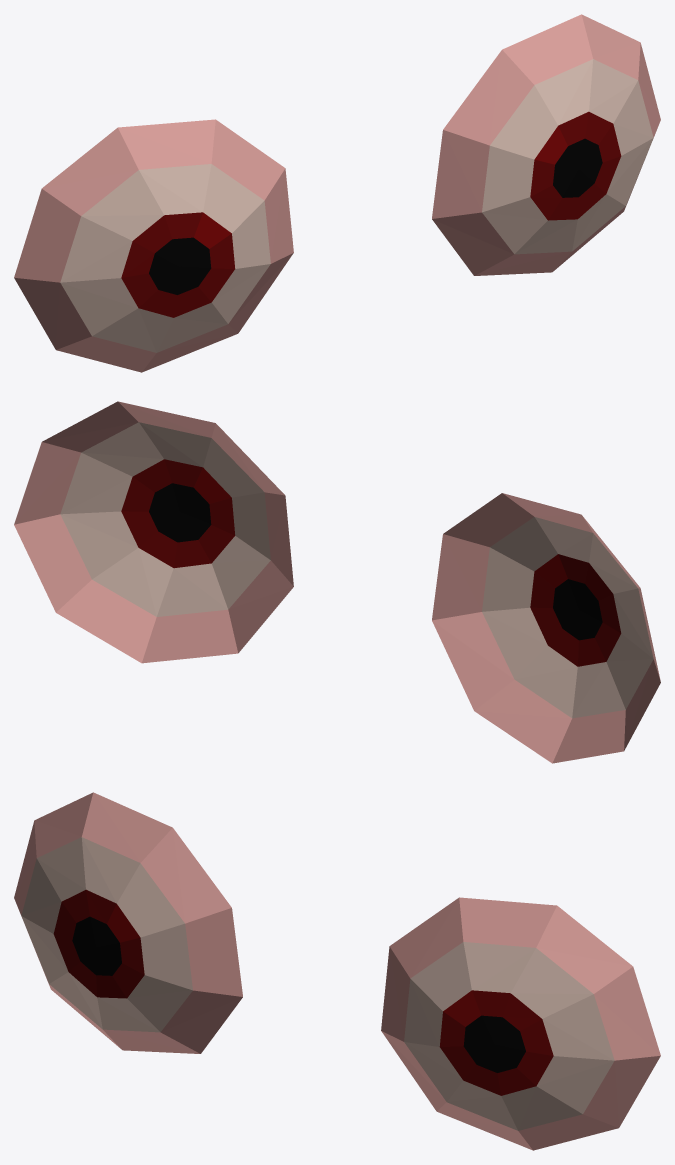
Rendered from eyesRedFemale.glb.
3 renders of one model, top to bottom at view 1: azimuth 30°, elevation 25°; view 2: azimuth 150°, elevation 25°; view 3: azimuth 330°, elevation 25°, orthographic.
Parts seen in each view (by area): view 1: eyesRedFemale; view 2: eyesRedFemale; view 3: eyesRedFemale.
Part boxes in pixels (x1,y1,x2,y2): eyesRedFemale: [14, 14, 660, 372]; eyesRedFemale: [14, 401, 660, 763]; eyesRedFemale: [14, 792, 660, 1150].
Bounding box in the file's own units: 0.1266 × 0.0474 × 0.0155.
